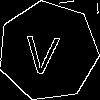V: (23, 26, 62, 75)
